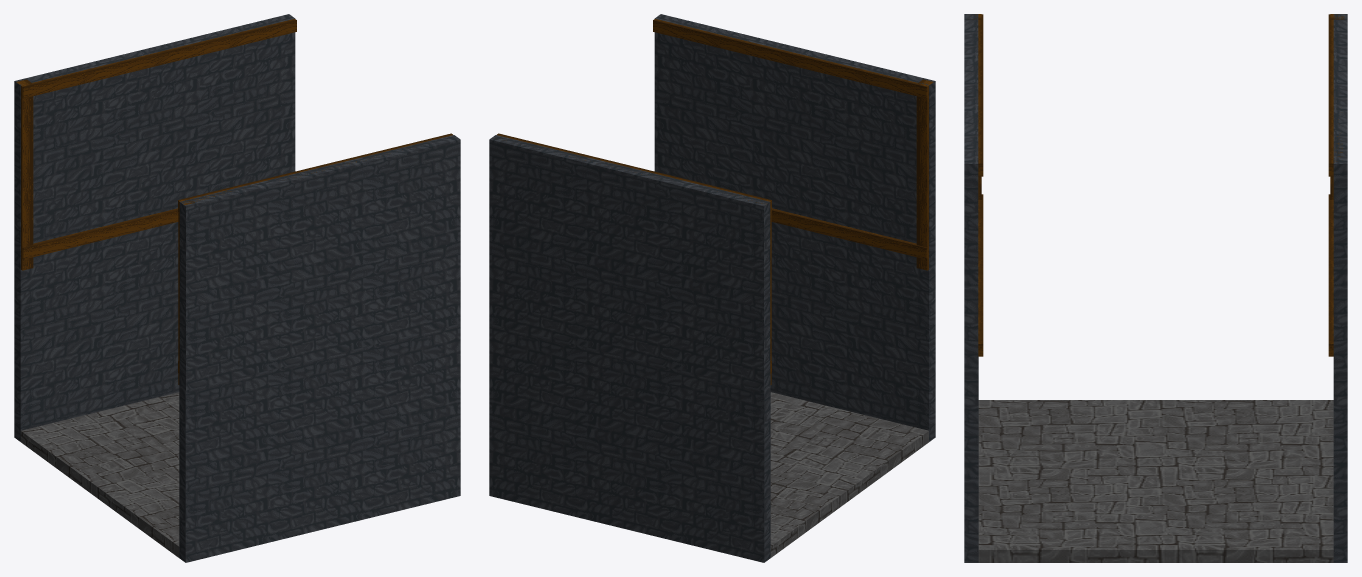
File: Flur Schlucht V1.fbx
3 renders of one model, left to right at view 1: azimuth 30°, elevation 25°; view 2: azimuth 150°, elevation 25°; view 3: azimuth 270°, elevation 25°, orthographic. The views are drawn at different scales.
Visible parts, largest first — view 1: Flur Schlucht V1.004, Flur Schlucht V1.001, Flur Schlucht V1.007, Flur Schlucht V1.010, Flur Schlucht V1.003; view 2: Flur Schlucht V1.007, Flur Schlucht V1.010, Flur Schlucht V1.004, Flur Schlucht V1.001, Flur Schlucht V1.003; view 3: Flur Schlucht V1.003, Flur Schlucht V1.007, Flur Schlucht V1.004, Flur Schlucht V1.001, Flur Schlucht V1.010.
Part boxes in pixels (<box>): Flur Schlucht V1.004: <box>178,133,460,390</box>; Flur Schlucht V1.001: <box>179,323,460,562</box>; Flur Schlucht V1.007: <box>14,14,296,270</box>; Flur Schlucht V1.010: <box>14,222,179,441</box>; Flur Schlucht V1.003: <box>20,392,179,557</box>; Flur Schlucht V1.007: <box>489,133,771,390</box>; Flur Schlucht V1.010: <box>489,323,770,562</box>; Flur Schlucht V1.004: <box>653,14,935,270</box>; Flur Schlucht V1.001: <box>770,222,935,441</box>; Flur Schlucht V1.003: <box>770,392,928,557</box>; Flur Schlucht V1.003: <box>978,400,1333,562</box>; Flur Schlucht V1.007: <box>1328,14,1347,369</box>; Flur Schlucht V1.004: <box>964,14,983,369</box>; Flur Schlucht V1.001: <box>964,357,978,562</box>; Flur Schlucht V1.010: <box>1333,357,1347,562</box>.
Bounding box in the file's own units: 500 × 540 × 620.
1 material, 1 textured.
